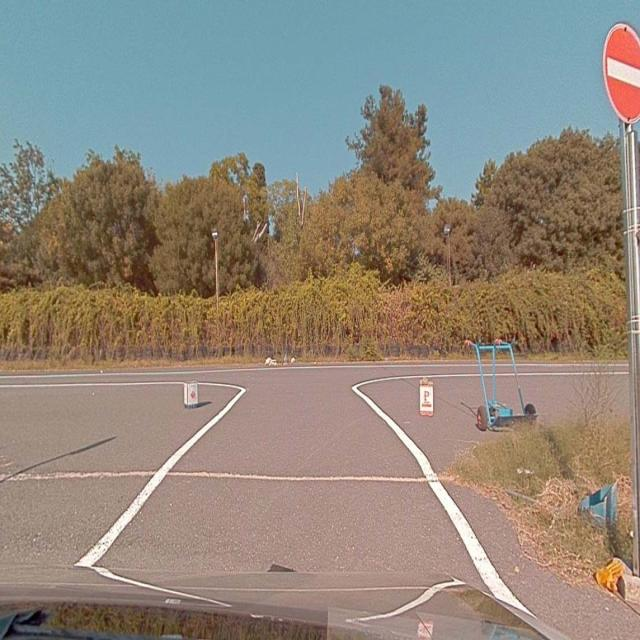girisyok: (604, 27, 640, 122)
